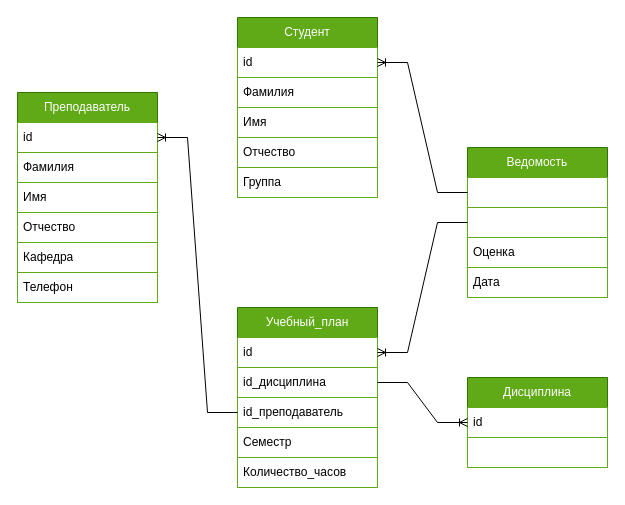
Image size: 625x505. Some labels were removed from this diagram. Here are the shapes that lost their labels. From the top down, the centre of each, then its label:
At point 537,192: "id_студент".
At point 537,222: "id_план".
At point 537,452: "Название".
